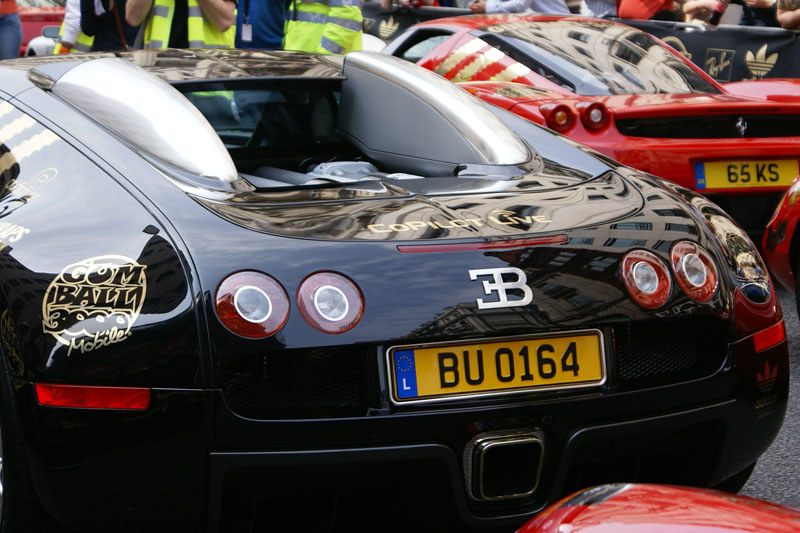number_plates: (386, 344, 590, 392)
